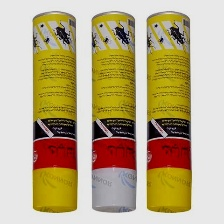aerosol_cans: (86, 8, 138, 215), (29, 7, 80, 217), (143, 9, 193, 216)
